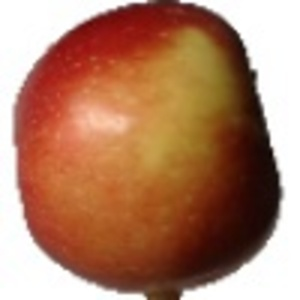maçã braeburn: (10, 2, 290, 294)
